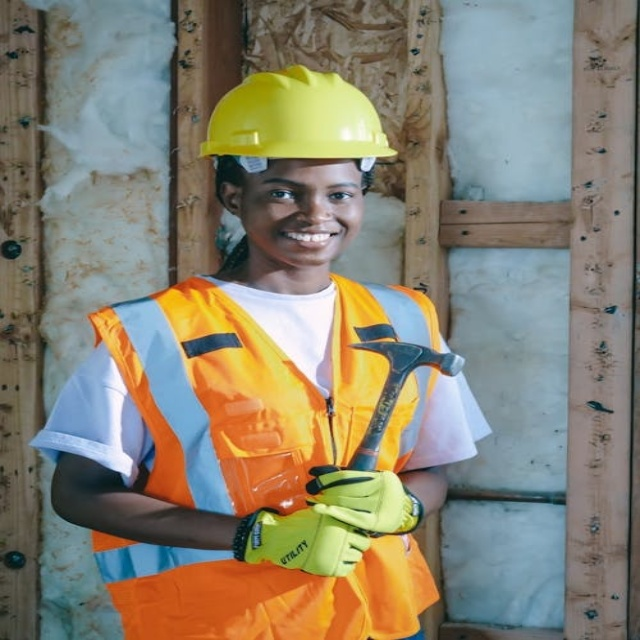Guantes: (234, 506, 372, 577), (305, 458, 425, 538)
Sin_gafas: (253, 177, 365, 209)
Sin_mascara: (274, 222, 346, 264)
